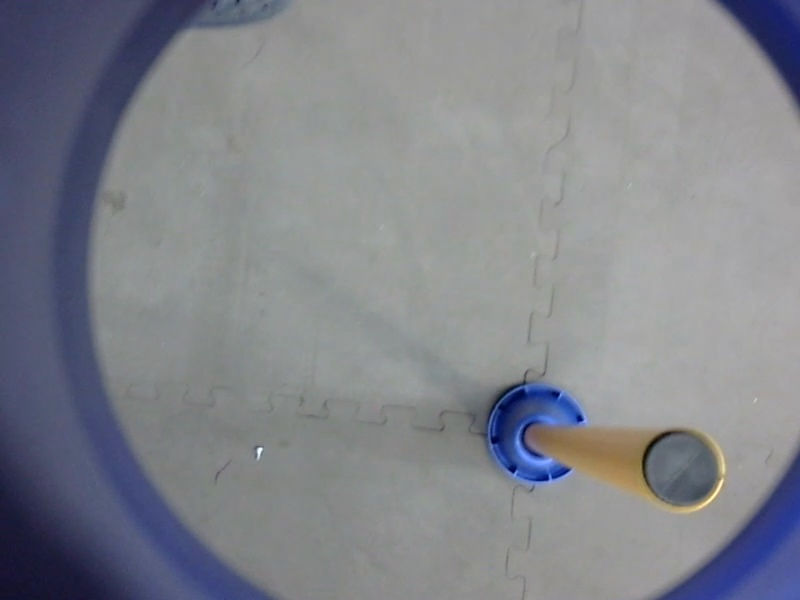tip: (634, 423, 736, 518)
